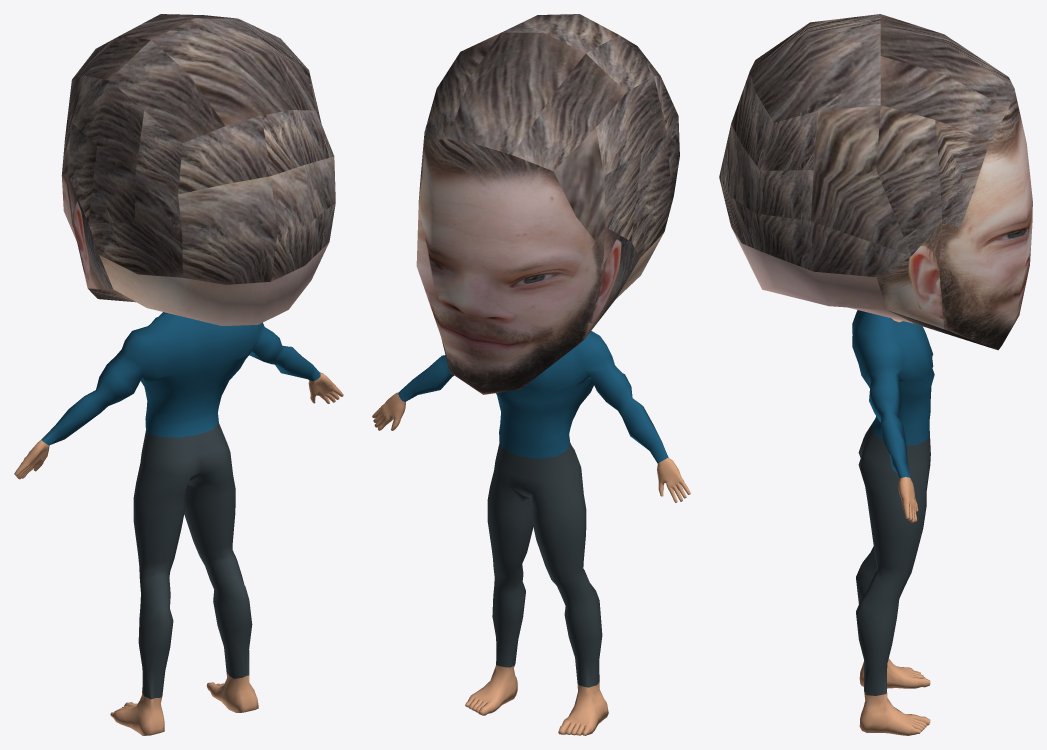
The model's file is hunter.obj.
3 renders of one model, left to right at view 1: azimuth 30°, elevation 25°; view 2: azimuth 150°, elevation 25°; view 3: azimuth 270°, elevation 25°, orthographic. The views are drawn at different scales.
Visible parts, largest first — view 1: Cylinder.001, Cylinder; view 2: Cylinder.001, Cylinder; view 3: Cylinder.001, Cylinder.
Part boxes in pixels (box(x1,y1,x2,y2)): Cylinder.001: box(61, 14, 335, 325); Cylinder: box(14, 312, 343, 735); Cylinder.001: box(416, 14, 679, 394); Cylinder: box(372, 331, 690, 735); Cylinder.001: box(719, 14, 1032, 350); Cylinder: box(852, 310, 934, 735).
Bounding box in the file's own units: 1.16 × 2.36 × 0.9829.
